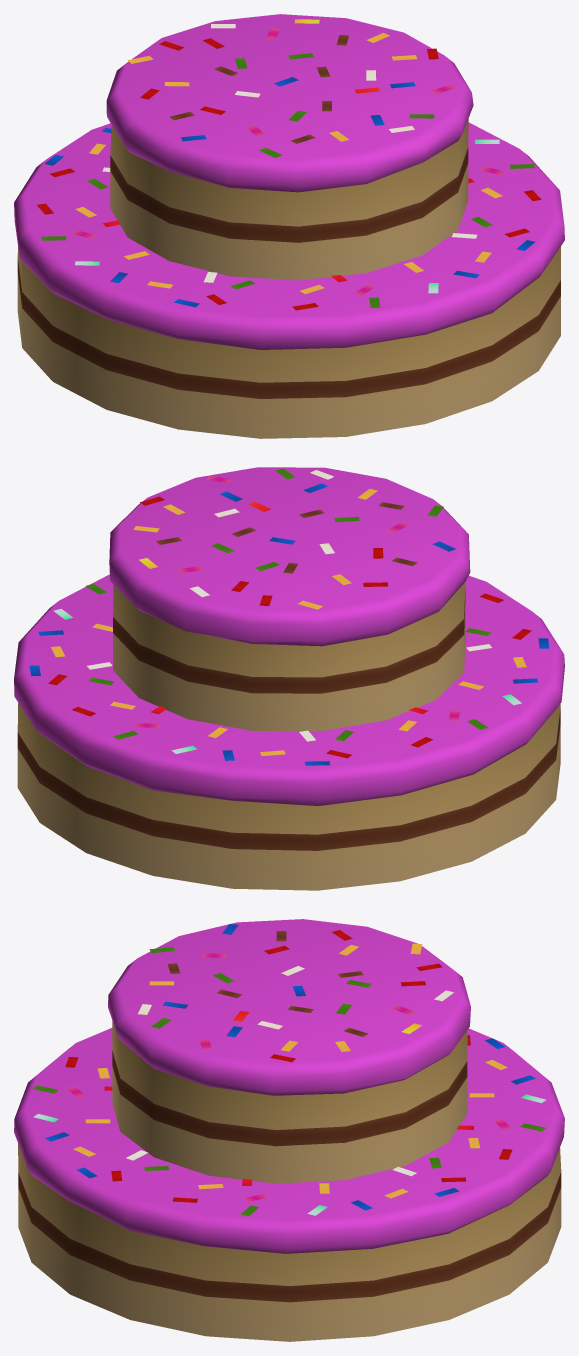
Rendered from Product Double Cake.fbx.
3 renders of one model, top to bottom at view 1: azimuth 30°, elevation 25°; view 2: azimuth 150°, elevation 25°; view 3: azimuth 270°, elevation 25°, orthographic.
Visible parts, largest first — view 1: Product_Double_Cake; view 2: Product_Double_Cake; view 3: Product_Double_Cake.
Part boxes in pixels (<box>): Product_Double_Cake: <box>14,14,564,438</box>; Product_Double_Cake: <box>14,467,564,890</box>; Product_Double_Cake: <box>14,919,564,1341</box>.
Size of the model in its own units: 150 by 71.47 by 151.
